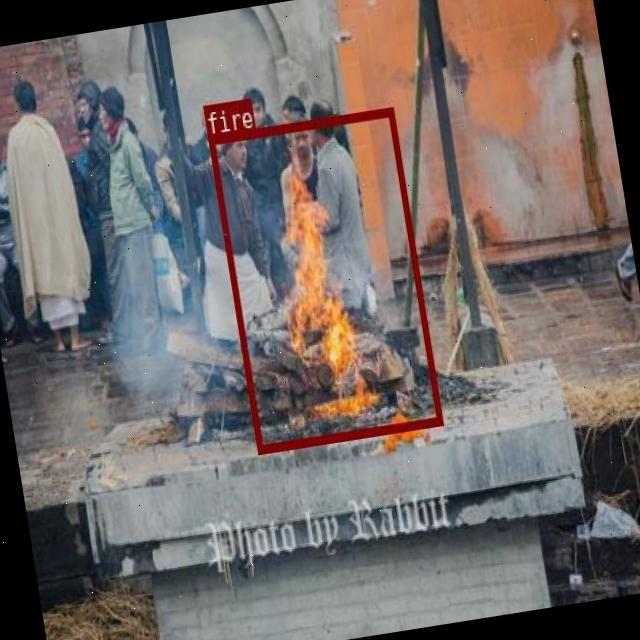fire: (208, 108, 442, 454)
